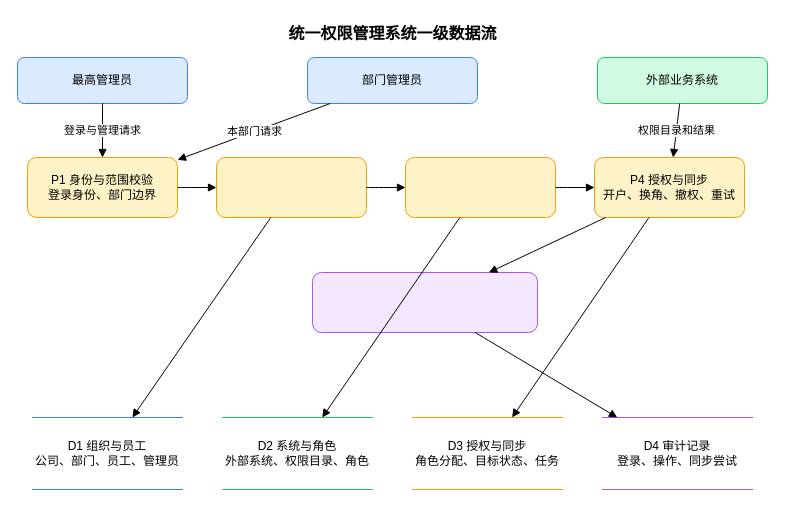
Some shapes in this 785 by 507 pixel diagram are drawn without their labels. The shapes that lost their labels are listed below. From the top down, each one's centre as x and y in pixels, then its label:
At point 291,187: "P2 基础数据管理 组织、员工、系统、管理员".
At point 480,187: "P3 权限与角色管理 目录、角色、角色权限".
At point 425,302: "P5 查询与审计 有效权限、同步状态、日志导出".
